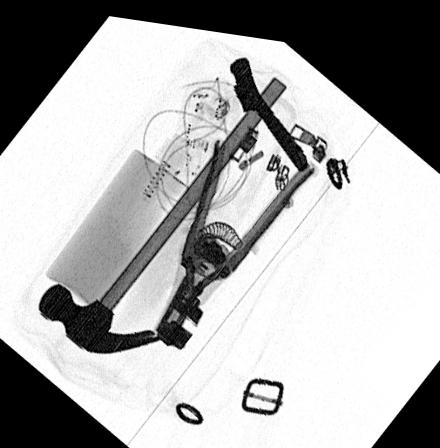Hammer: (36, 66, 286, 350)
Pliers: (159, 128, 315, 343)
Wrench: (228, 48, 304, 161)
